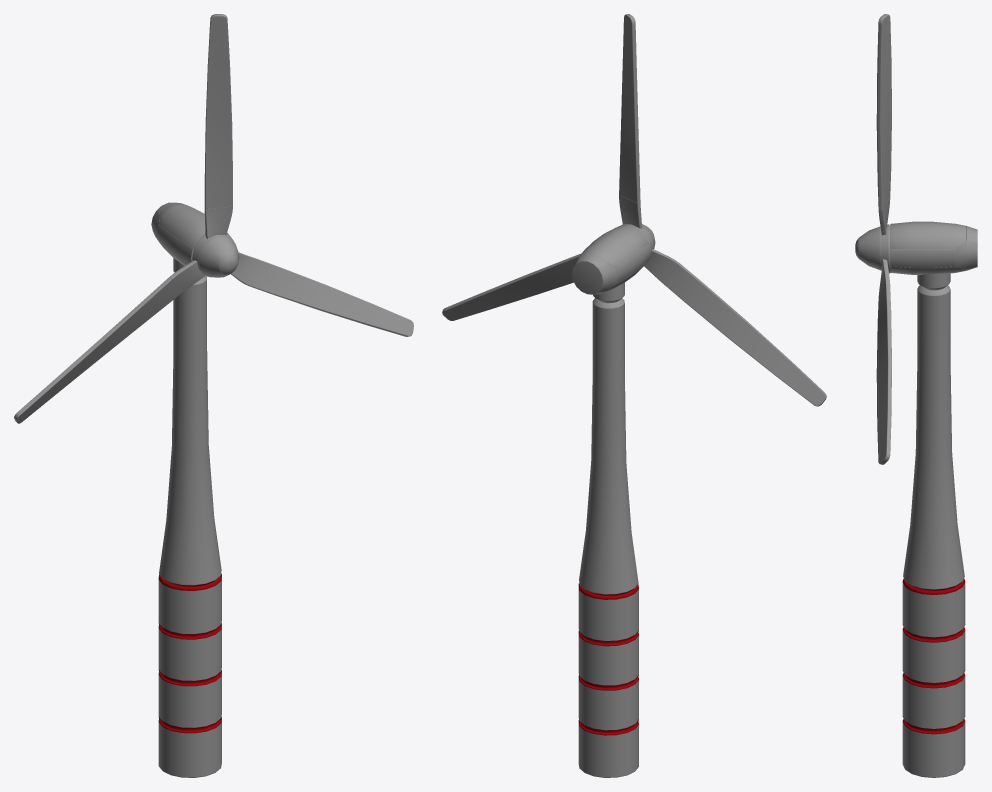
File: WindTurbine.FBX
The picture shows the model from 3 angles, left to right: view 1: azimuth 30°, elevation 25°; view 2: azimuth 150°, elevation 25°; view 3: azimuth 270°, elevation 25°; orthographic projection. The views are drawn at different scales.
Visible parts, largest first — view 1: cylinder84, polymsh_detached134, polymsh_extracted67, polymsh_extracted72, polymsh_extracted71, polymsh_extracted65, polymsh_detached130, polymsh_detached129; view 2: cylinder84, polymsh_detached134, polymsh_extracted71, polymsh_extracted67, polymsh_extracted72, polymsh_extracted65, polymsh_detached131, polymsh_detached135; view 3: cylinder84, polymsh_detached134, polymsh_extracted67, polymsh_extracted65, polymsh_extracted72, polymsh_detached132, polymsh_detached130, polymsh_detached131, polymsh_detached133, polymsh_extracted66, polymsh_detached129, polymsh_detached136.
Boxes of the visible parts, left/top/right/bottom form: cylinder84: left=159, top=276, right=221, bottom=586; polymsh_detached134: left=158, top=573, right=221, bottom=777; polymsh_extracted67: left=204, top=14, right=232, bottom=208; polymsh_extracted72: left=249, top=259, right=413, bottom=336; polymsh_extracted71: left=14, top=277, right=179, bottom=423; polymsh_extracted65: left=159, top=203, right=228, bottom=265; polymsh_detached130: left=198, top=236, right=239, bottom=277; polymsh_detached129: left=204, top=206, right=232, bottom=239; cylinder84: left=579, top=298, right=638, bottom=595; polymsh_detached134: left=578, top=583, right=638, bottom=777; polymsh_extracted71: left=664, top=263, right=826, bottom=406; polymsh_extracted67: left=619, top=14, right=640, bottom=202; polymsh_extracted72: left=442, top=253, right=581, bottom=320; polymsh_extracted65: left=579, top=224, right=648, bottom=293; polymsh_detached131: left=571, top=254, right=618, bottom=294; polymsh_detached135: left=644, top=249, right=679, bottom=283; cylinder84: left=903, top=285, right=964, bottom=590; polymsh_detached134: left=902, top=578, right=965, bottom=777; polymsh_extracted67: left=876, top=14, right=891, bottom=209; polymsh_extracted65: left=890, top=221, right=966, bottom=274; polymsh_extracted72: left=876, top=284, right=891, bottom=464; polymsh_detached132: left=890, top=249, right=955, bottom=267; polymsh_detached130: left=859, top=226, right=880, bottom=269; polymsh_detached131: left=956, top=226, right=977, bottom=270; polymsh_detached133: left=917, top=273, right=950, bottom=290; polymsh_extracted66: left=855, top=224, right=890, bottom=271; polymsh_detached129: left=878, top=198, right=890, bottom=235; polymsh_detached136: left=878, top=259, right=890, bottom=298.
Size of the model in its own units: 38.43 by 70.41 by 10.42.
